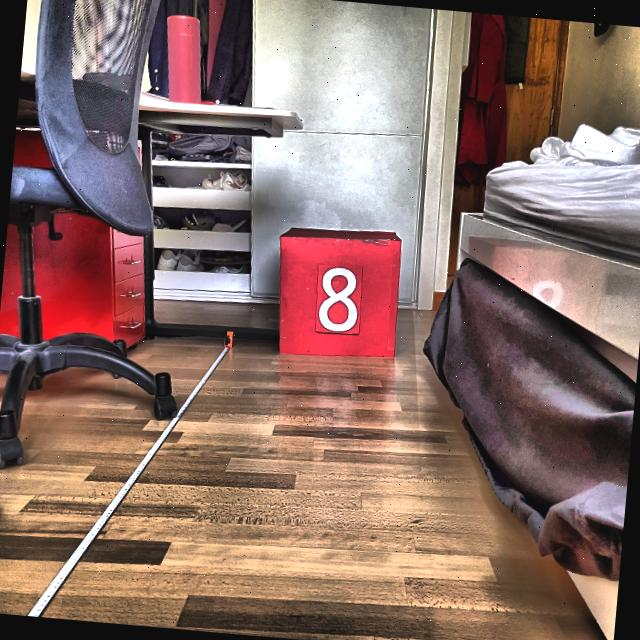eight: (317, 266, 362, 334)
red box: (269, 222, 406, 361)
